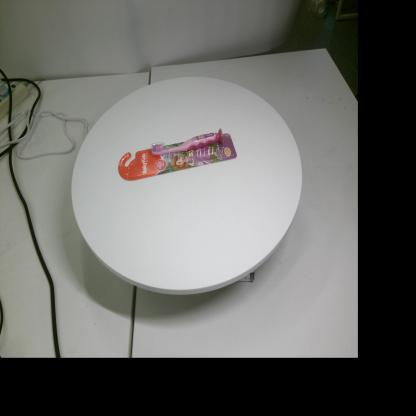Personal Hygiene: (118, 128, 237, 181)
